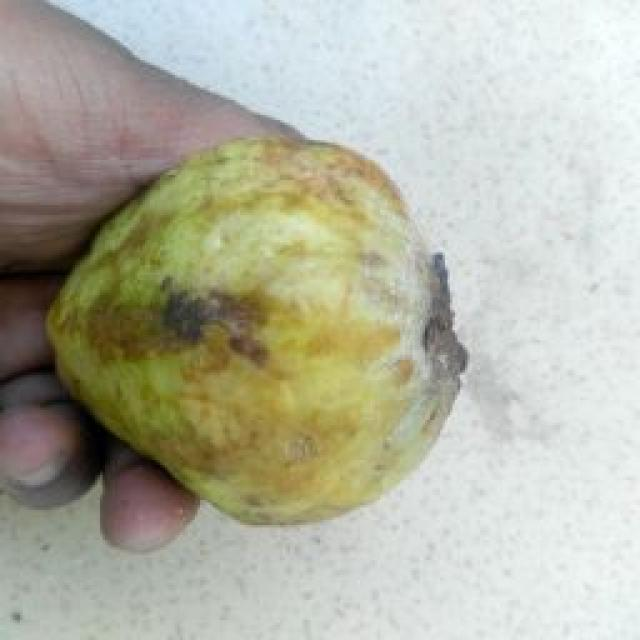Bad_Guava: (48, 139, 465, 522)
